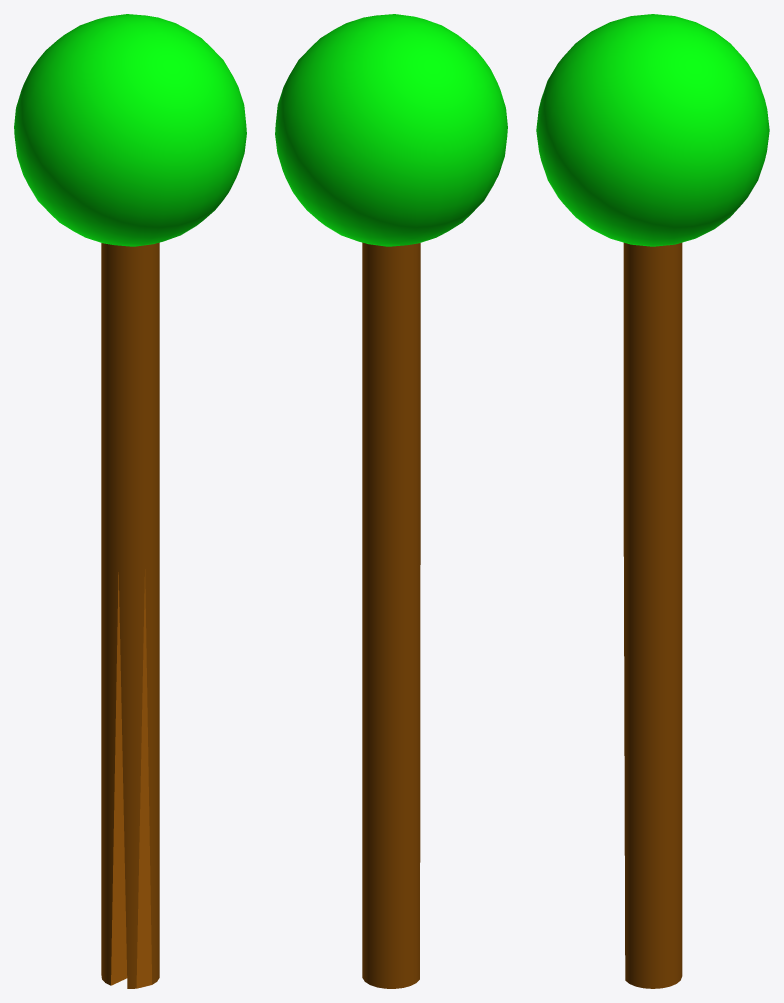
Rendered from Tree.obj.
The picture shows the model from 3 angles, left to right: view 1: azimuth 30°, elevation 25°; view 2: azimuth 150°, elevation 25°; view 3: azimuth 270°, elevation 25°; orthographic projection.
Visible parts, largest first — view 1: Tree; view 2: Tree; view 3: Tree.
Boxes of the visible parts, <box> form: Tree: <box>14,14,246,988</box>; Tree: <box>275,14,507,988</box>; Tree: <box>536,14,769,988</box>.
Bounding box in the file's own units: 1 × 4.5 × 1.
